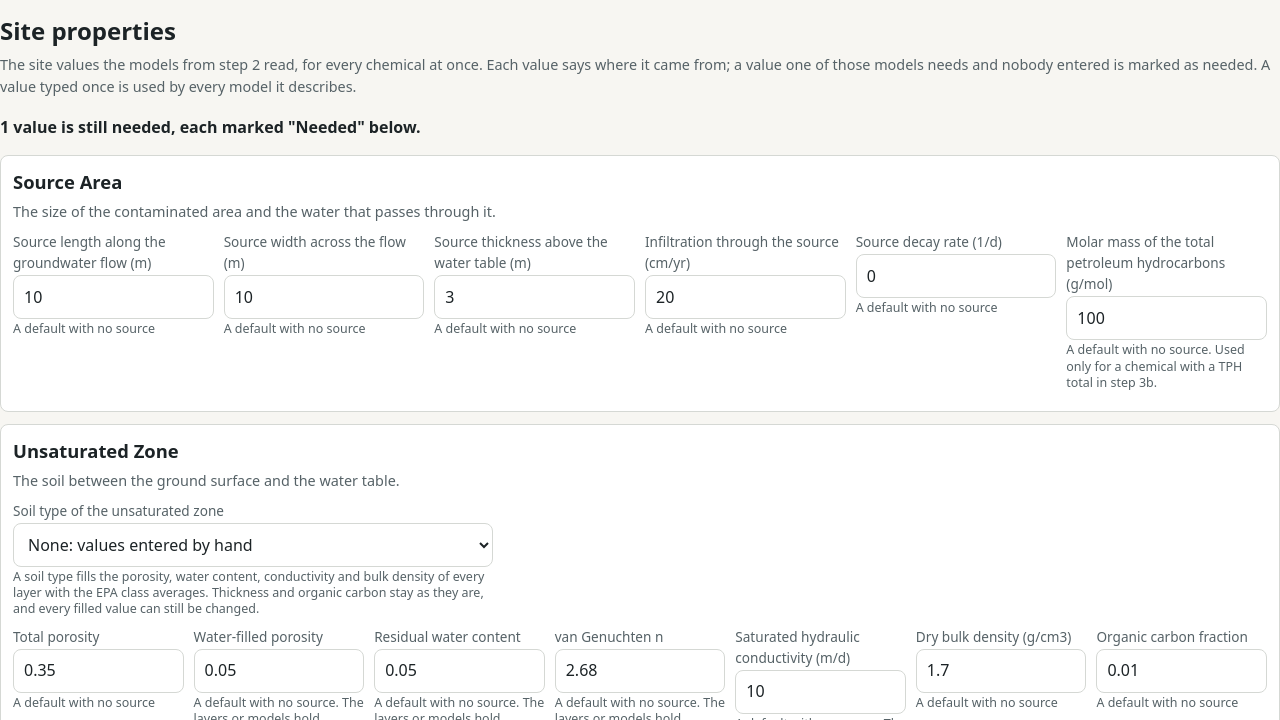
Test: PropertiesStep › fills the unsaturated zone from a soil type and tags the values it filled
Select "Sandy loam" in the dropdown labelled "Soil type of the unsaturated zone": (253, 545) [13,523,493,567]
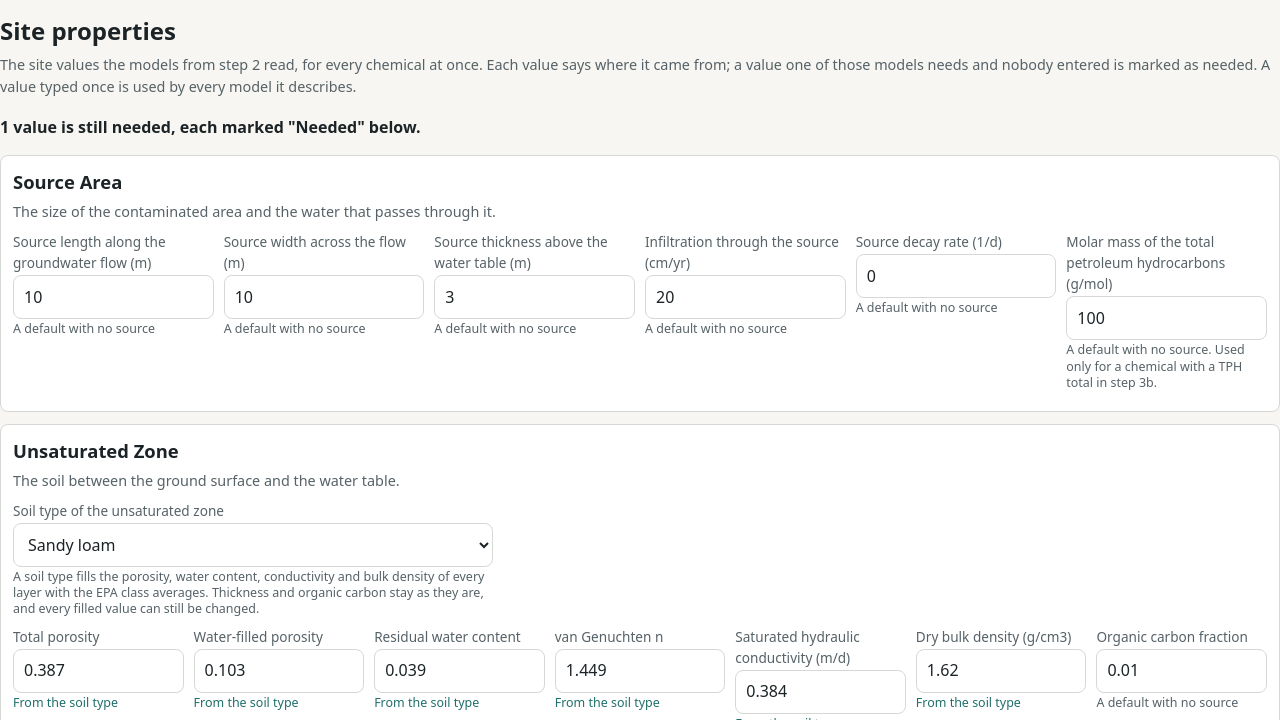
Check: the text "A default with no source" below "Organic carbon fraction" is shown, box [1096,694,1238,711]
Check: the text "From the soil type" below "Total porosity" is shown, box [13,694,118,711]
